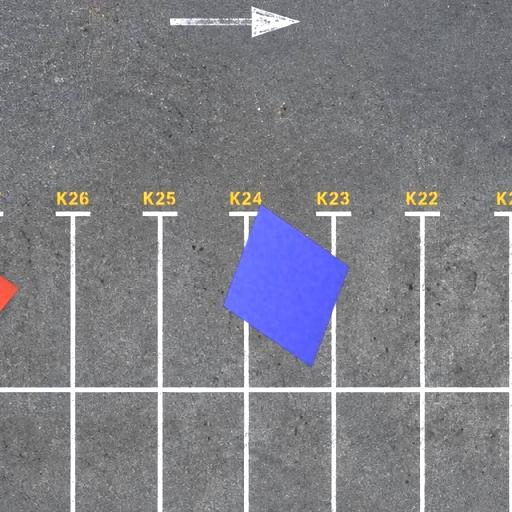BLUE_SQUARE: (224, 203, 350, 368)
